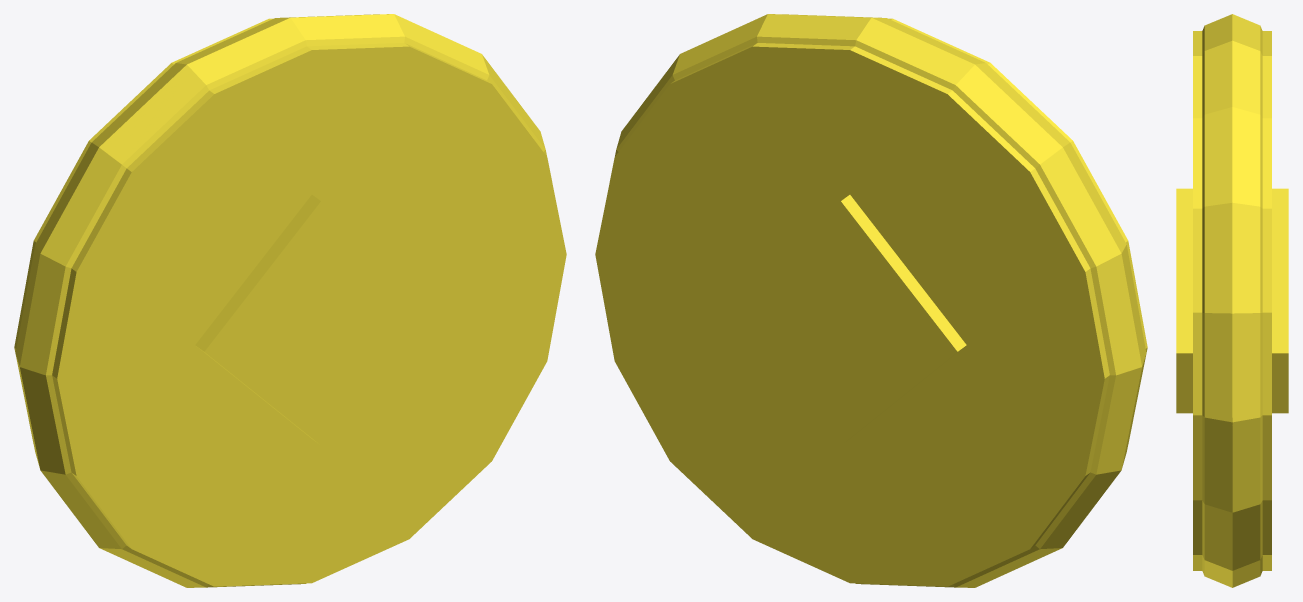
File: Coin.fbx
The picture shows the model from 3 angles, left to right: view 1: azimuth 30°, elevation 25°; view 2: azimuth 150°, elevation 25°; view 3: azimuth 270°, elevation 25°; orthographic projection. The views are drawn at different scales.
Visible parts, largest first — view 1: Coin; view 2: Coin; view 3: Coin.
Boxes of the visible parts, left/top/right/bottom form: Coin: left=14, top=14, right=566, bottom=587; Coin: left=595, top=14, right=1147, bottom=587; Coin: left=1176, top=14, right=1288, bottom=587.
Bounding box in the file's own units: 1.02 × 1.02 × 0.2.
